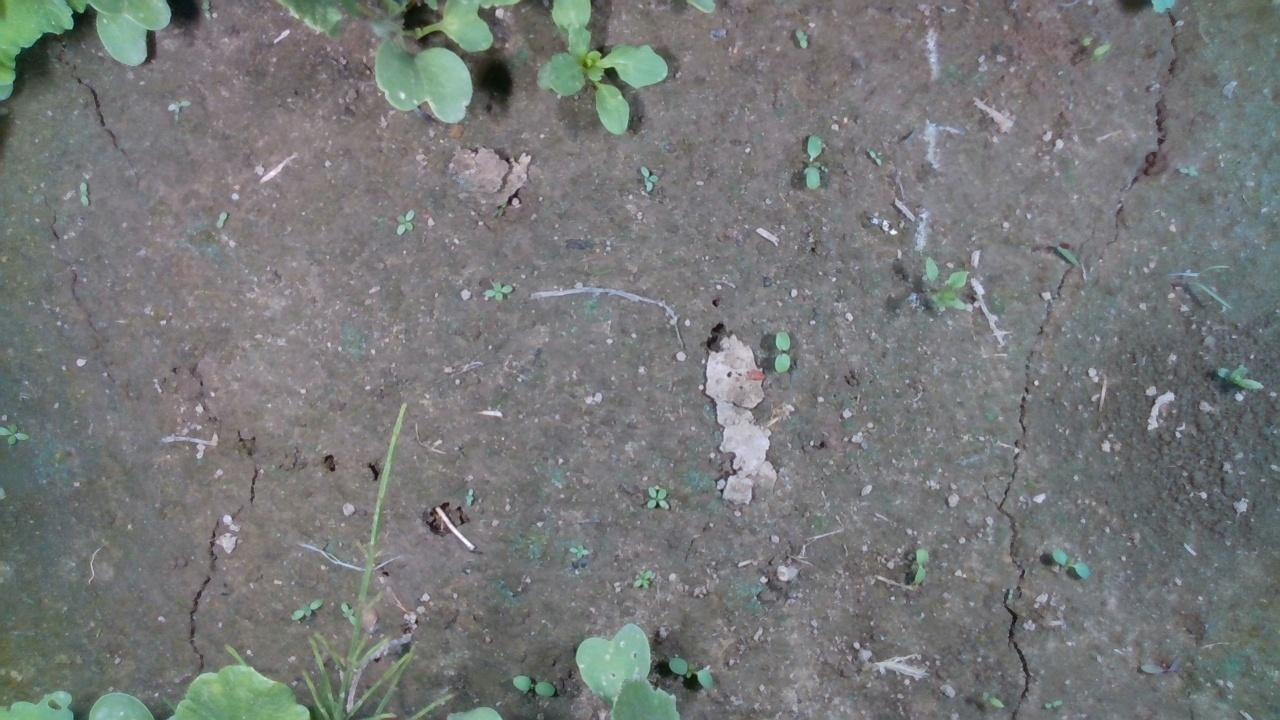weed: (666, 655, 712, 687), (1050, 546, 1090, 580), (509, 673, 555, 697), (803, 132, 821, 190), (289, 597, 323, 621), (772, 328, 790, 373), (481, 279, 512, 301), (645, 484, 670, 511), (639, 163, 658, 195), (393, 208, 415, 235), (913, 546, 928, 585), (980, 689, 1004, 709), (76, 179, 90, 208), (165, 98, 191, 111), (794, 25, 807, 49), (567, 543, 589, 557), (866, 147, 881, 165), (215, 210, 228, 230), (1042, 698, 1062, 708)
